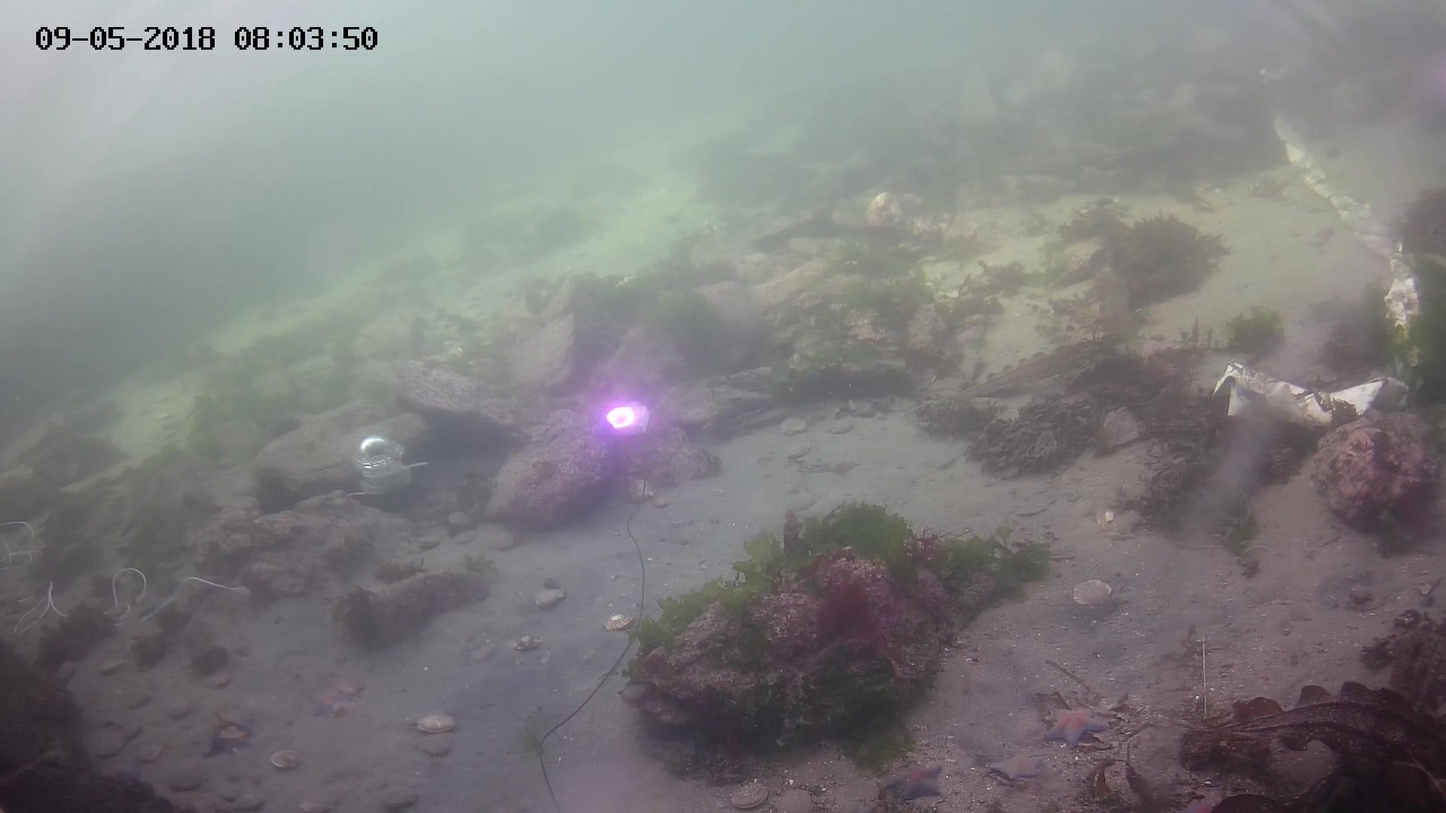holothurian: (1048, 702, 1110, 749), (877, 759, 937, 797), (988, 746, 1047, 784)
scallop: (1066, 575, 1115, 607), (771, 783, 815, 813), (729, 786, 763, 811), (414, 714, 454, 733), (603, 611, 633, 636), (776, 413, 810, 435), (510, 635, 543, 655), (532, 583, 562, 604), (270, 749, 297, 771)
